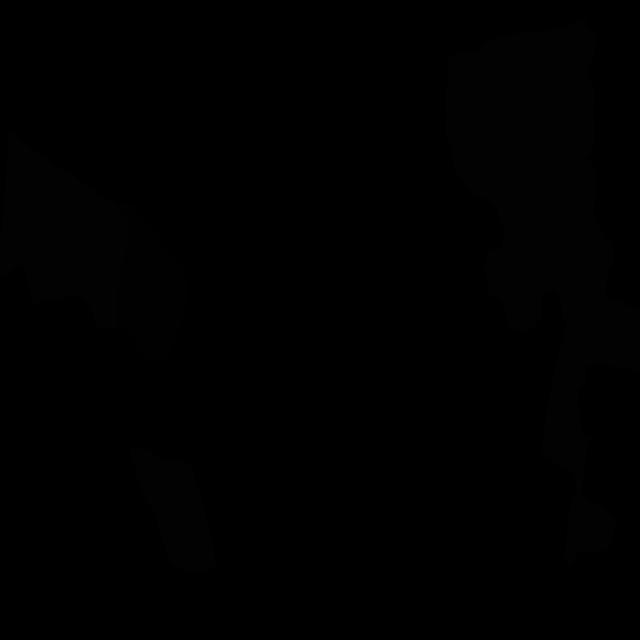cardboard: (444, 16, 614, 334), (541, 287, 640, 564), (0, 131, 131, 330), (129, 448, 217, 573)
rigid_plastic: (117, 202, 188, 361)
